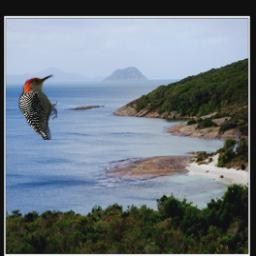Woodpecker: (18, 75, 58, 141)
